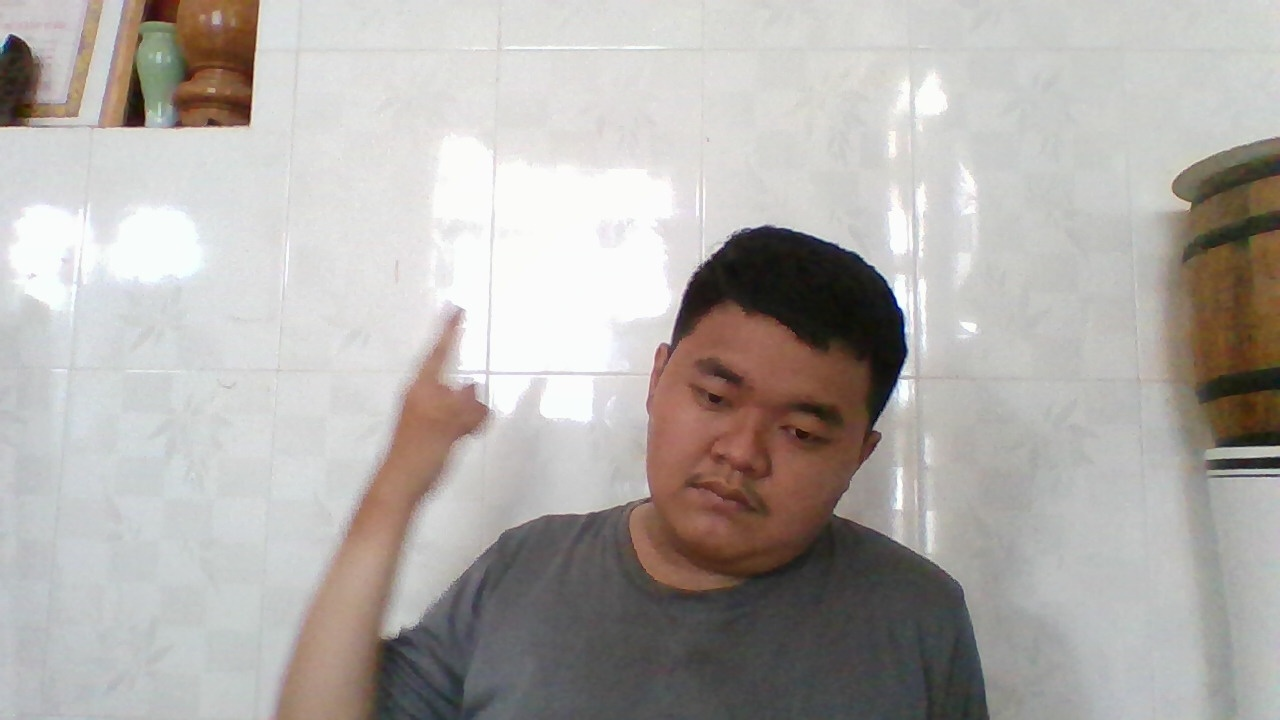U: (384, 296, 493, 497)
